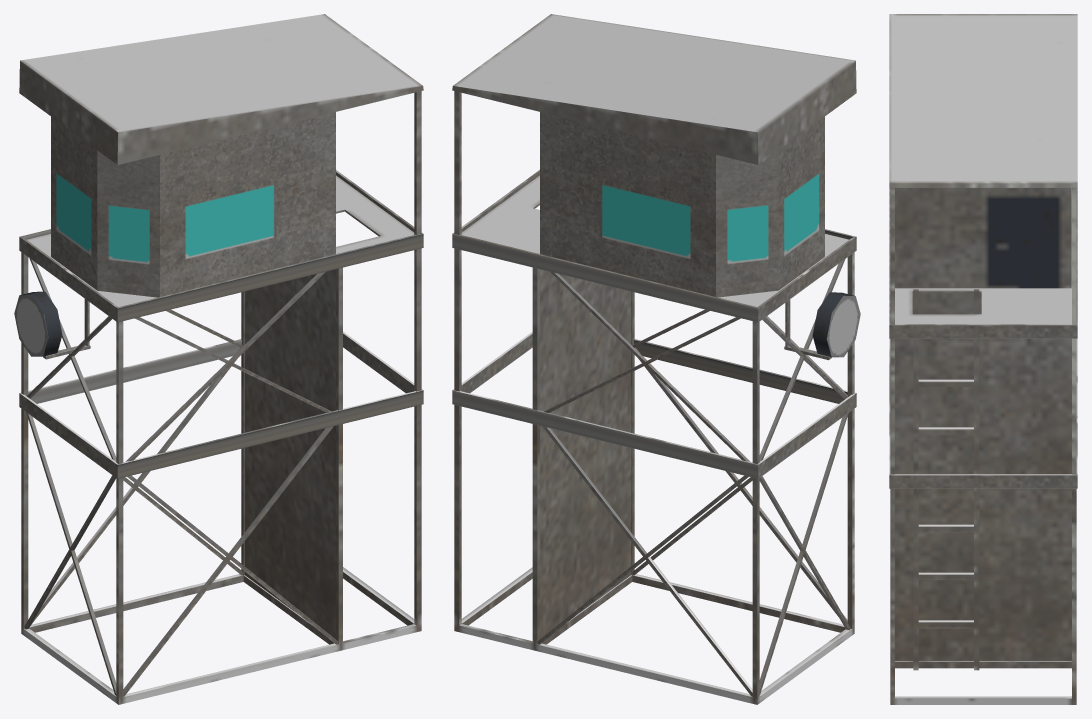
The model's file is Vishka_win.glb.
3 renders of one model, left to right at view 1: azimuth 30°, elevation 25°; view 2: azimuth 150°, elevation 25°; view 3: azimuth 270°, elevation 25°, orthographic. The views are drawn at different scales.
Parts seen in each view (by area): view 1: Box001, Cylinder001; view 2: Box001, Cylinder001; view 3: Box001.
Part boxes in pixels (x1,y1,x2,y2): Box001: (19,14,423,704); Cylinder001: (14,291,62,356); Box001: (452,14,856,704); Cylinder001: (812,292,860,357); Box001: (889,14,1077,704).
Bounding box in the file's own units: 3.1 × 4.96 × 1.54.
Materials: 1 (1 with a texture image).
